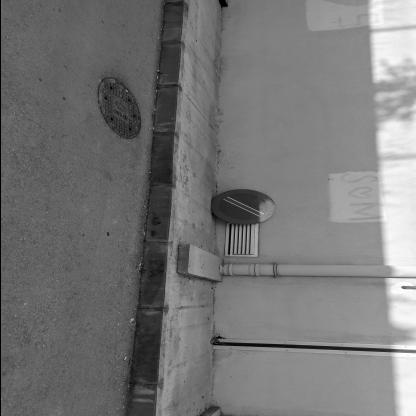No Waiting: (212, 191, 277, 225)
